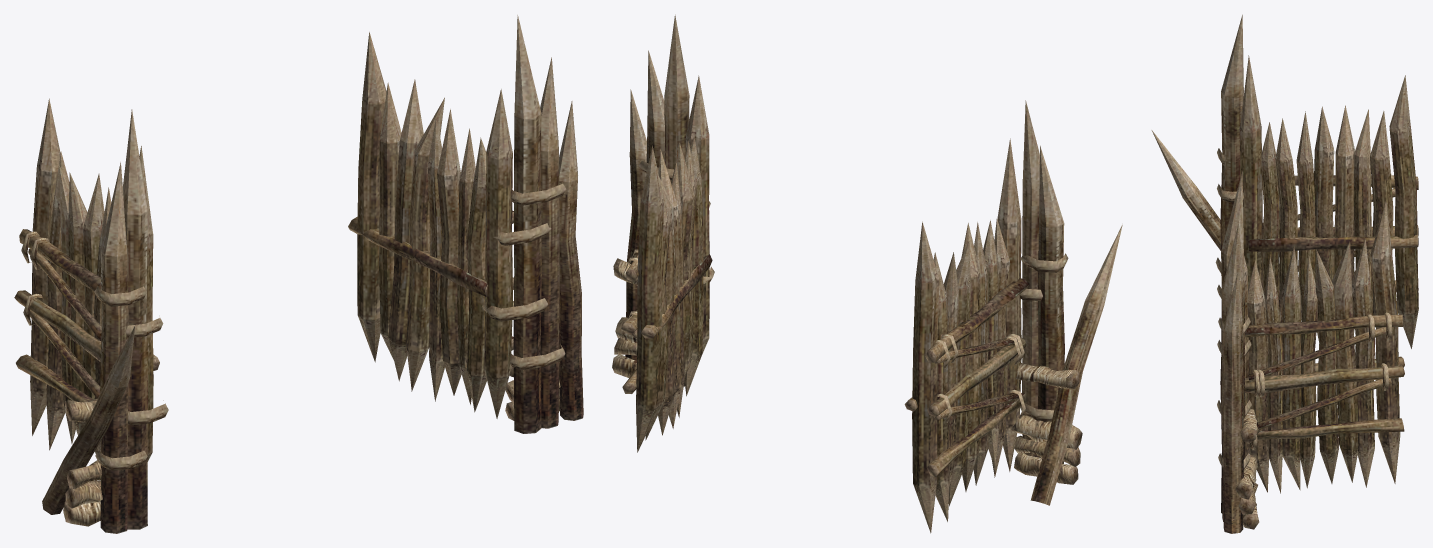
Rendered from desert_wooddoor01.glb.
3 renders of one model, left to right at view 1: azimuth 30°, elevation 25°; view 2: azimuth 150°, elevation 25°; view 3: azimuth 270°, elevation 25°, orthographic. The views are drawn at different scales.
Visible parts, largest first — view 1: Box01; view 2: Box01; view 3: Box01.
Boxes of the visible parts, x1,y1,x2,y2 form: Box01: [14, 15, 583, 533]; Box01: [612, 14, 1122, 533]; Box01: [1151, 14, 1418, 533].
Bounding box in the file's own units: 17.73 × 13.86 × 9.77.
Materials: 1 (1 with a texture image).
